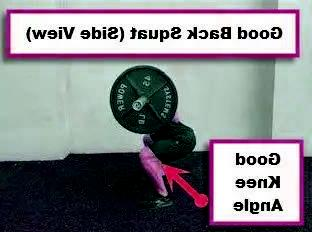Barbell: (131, 99, 141, 112)
